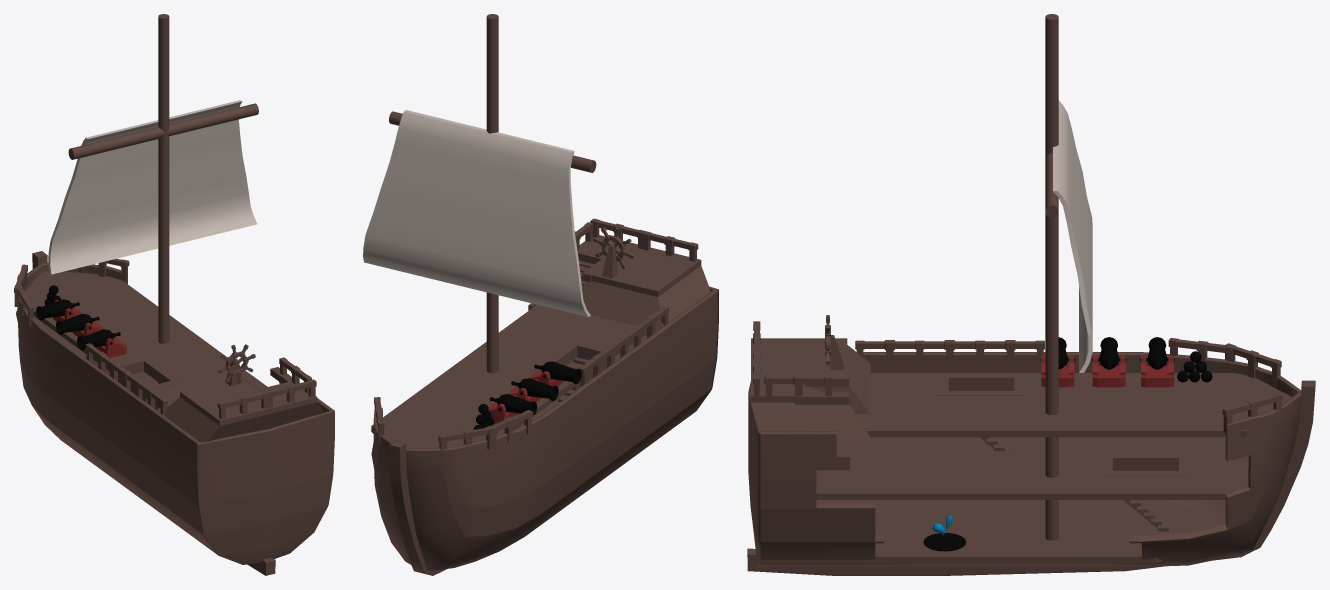
File: MESH_Boat.fbx
3 views of the same model, side by side, from view 1: azimuth 30°, elevation 25°; view 2: azimuth 150°, elevation 25°; view 3: azimuth 270°, elevation 25° (orthographic). The views are drawn at different scales.
Parts seen in each view (by area): view 1: Boat1, Mat, Canons, Barre; view 2: Boat1, Mat, Canons, Barre; view 3: Boat1, Mat, Canons, Hole.
Part boxes in pixels (left/top/right/bottom): Boat1: left=14, top=251, right=334, bottom=575; Mat: left=48, top=14, right=258, bottom=383; Canons: left=36, top=285, right=126, bottom=357; Barre: left=218, top=344, right=255, bottom=382; Boat1: left=371, top=218, right=718, bottom=575; Mat: left=363, top=14, right=596, bottom=373; Canons: left=473, top=361, right=581, bottom=429; Barre: left=593, top=227, right=634, bottom=268; Boat1: left=747, top=321, right=1315, bottom=575; Mat: left=1045, top=14, right=1092, bottom=540; Canons: left=1040, top=337, right=1212, bottom=387; Hole: left=923, top=515, right=966, bottom=551.
Bounding box in the file's own units: 21.12 × 45.65 × 41.44.
